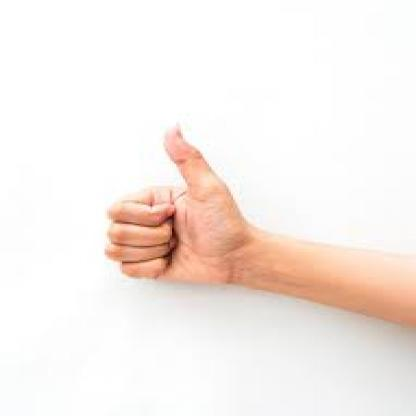thumb_up: (100, 118, 247, 286)
